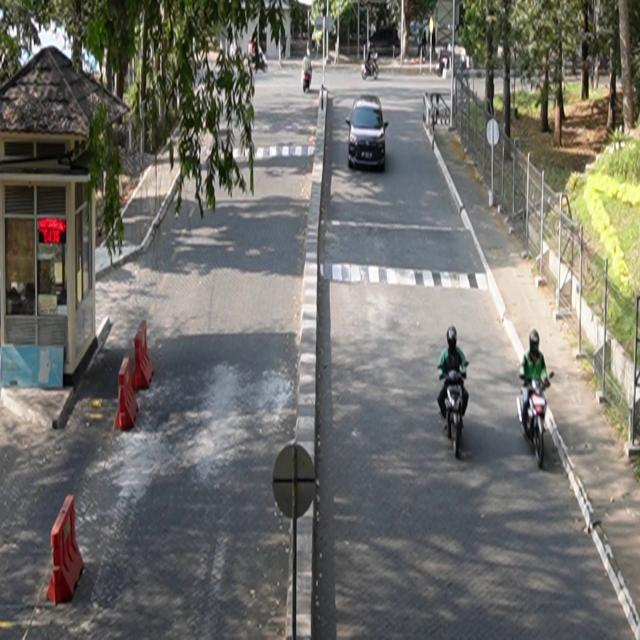car: (346, 95, 390, 172)
